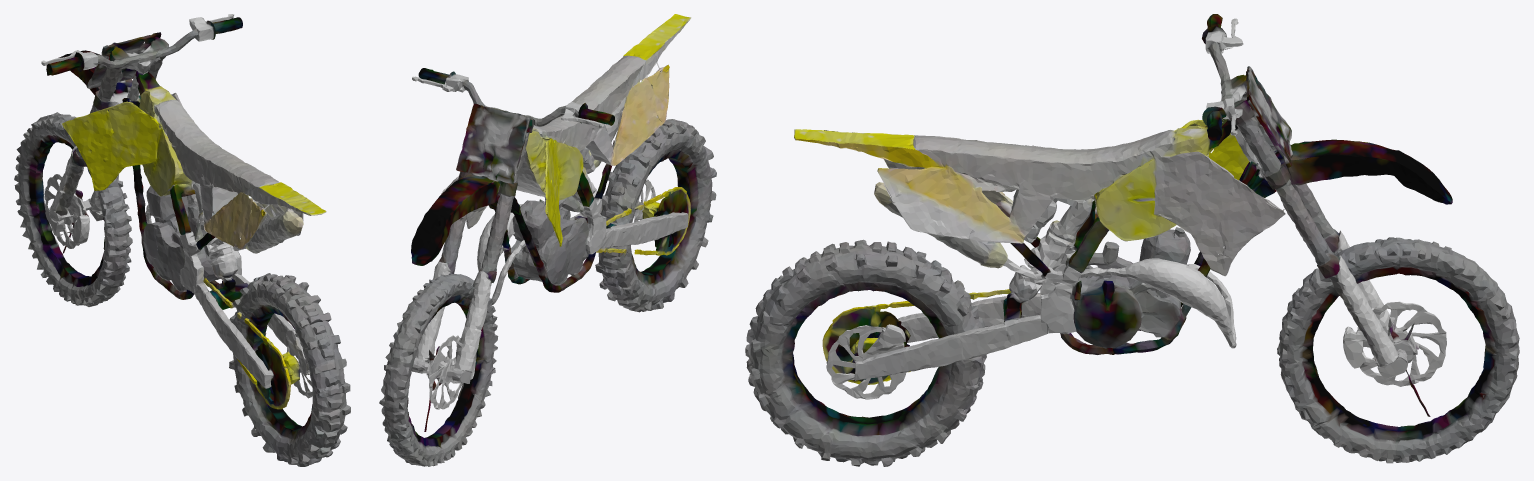
The picture shows the model from 3 angles, left to right: view 1: azimuth 30°, elevation 25°; view 2: azimuth 150°, elevation 25°; view 3: azimuth 270°, elevation 25°; orthographic projection. The views are drawn at different scales.
Parts seen in each view (by area): view 1: defaultobject; view 2: defaultobject; view 3: defaultobject.
Part boxes in pixels (x1,y1,x2,y2): defaultobject: (14, 14, 350, 466); defaultobject: (379, 14, 716, 466); defaultobject: (745, 14, 1519, 466).
Bounding box in the file's own units: 0.3368 × 0.5354 × 0.9501.
